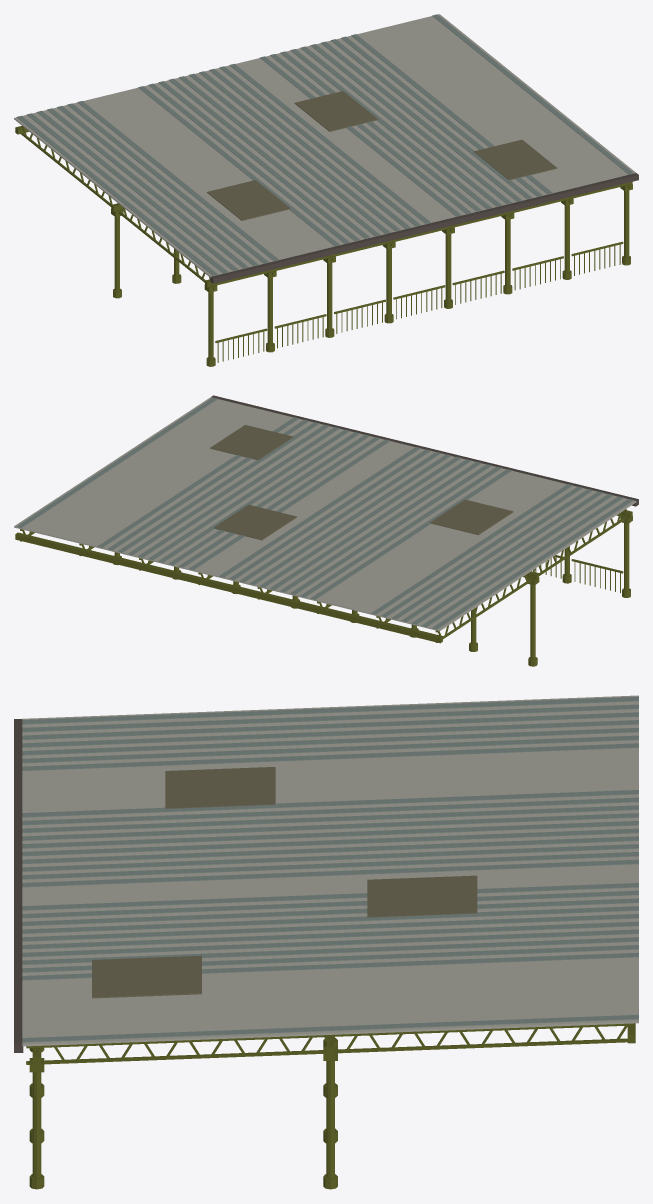
File: SM_MarquesinaAdosada_v1_LOD0.fbx
The picture shows the model from 3 angles, top to bottom: view 1: azimuth 30°, elevation 25°; view 2: azimuth 150°, elevation 25°; view 3: azimuth 270°, elevation 25°; orthographic projection. The views are drawn at different scales.
Parts seen in each view (by area): view 1: SM_marquesina_adosada_v1_LOD0; view 2: SM_marquesina_adosada_v1_LOD0; view 3: SM_marquesina_adosada_v1_LOD0.
Part boxes in pixels (bbox=[...]): SM_marquesina_adosada_v1_LOD0: bbox=[14, 14, 638, 366]; SM_marquesina_adosada_v1_LOD0: bbox=[14, 395, 638, 666]; SM_marquesina_adosada_v1_LOD0: bbox=[14, 695, 638, 1189].
Size of the model in its own units: 21 by 5.1 by 17.03.
